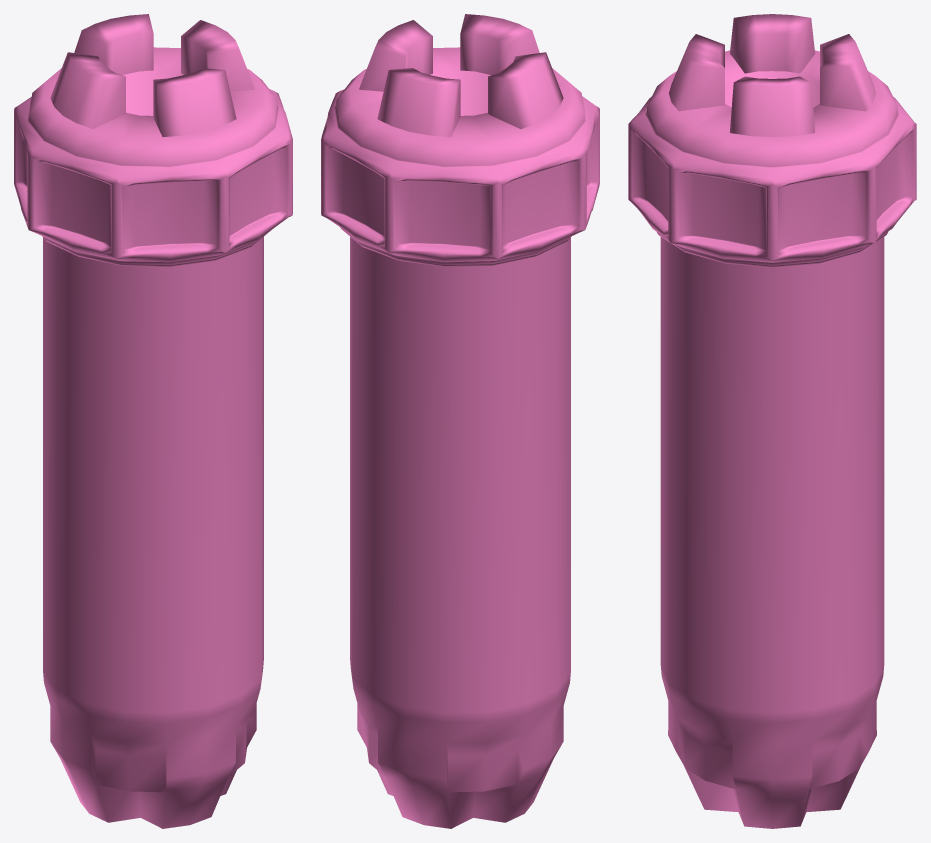
Rendered from SM_Fuel_Rod.fbx.
3 renders of one model, left to right at view 1: azimuth 30°, elevation 25°; view 2: azimuth 150°, elevation 25°; view 3: azimuth 270°, elevation 25°, orthographic.
Parts seen in each view (by area): view 1: FuelRod_Chip1; view 2: FuelRod_Chip1; view 3: FuelRod_Chip1.
Part boxes in pixels (bbox=[...]): FuelRod_Chip1: bbox=[14, 14, 292, 828]; FuelRod_Chip1: bbox=[321, 14, 599, 828]; FuelRod_Chip1: bbox=[628, 14, 916, 828].
Size of the model in its own units: 11.36 by 32.5 by 11.36.
